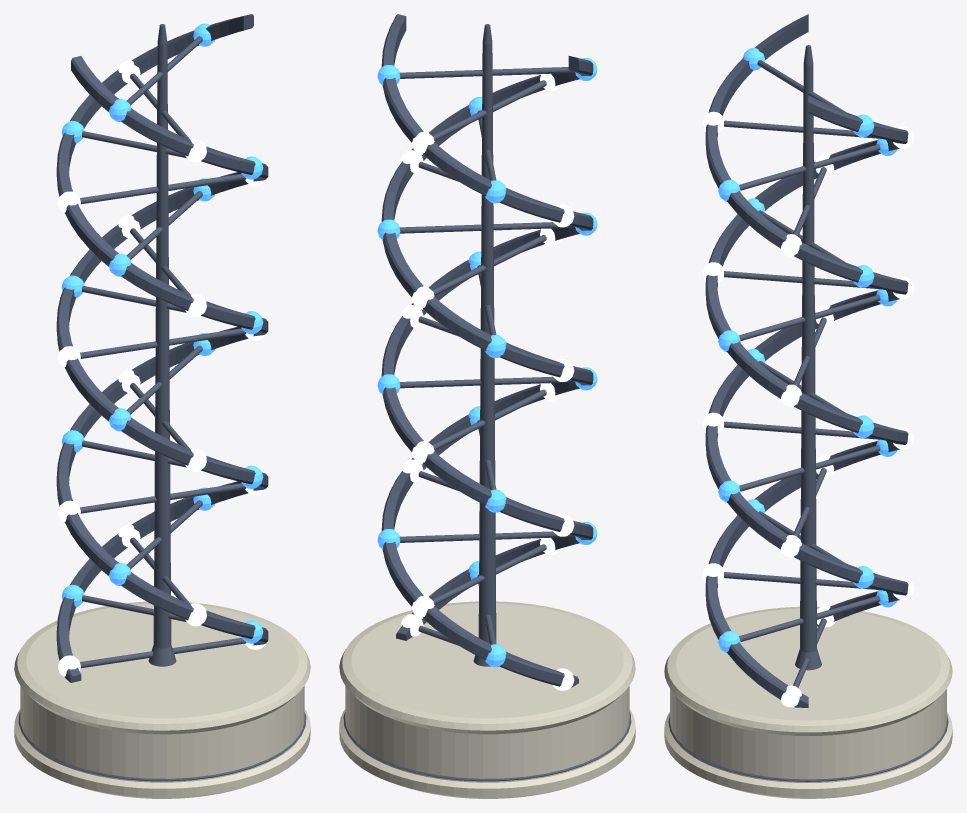
File: bw_helix_sculpture.glb
The picture shows the model from 3 angles, left to right: view 1: azimuth 30°, elevation 25°; view 2: azimuth 150°, elevation 25°; view 3: azimuth 270°, elevation 25°; orthographic projection. The views are drawn at different scales.
Visible parts, largest first — view 1: drum, base_inlay, crosslink, bw_helix_sculpture; view 2: drum, base_inlay, crosslink, bw_helix_sculpture; view 3: drum, base_inlay, crosslink, bw_helix_sculpture.
Part boxes in pixels (x1,y1,x2,y2): drum: (14, 601, 310, 798); base_inlay: (18, 14, 306, 781); crosslink: (80, 24, 246, 668); bw_helix_sculpture: (58, 23, 265, 676); drum: (339, 601, 635, 798); base_inlay: (343, 14, 631, 781); crosslink: (399, 24, 575, 666); bw_helix_sculpture: (377, 58, 597, 690); drum: (664, 606, 952, 798); base_inlay: (668, 14, 948, 781); crosslink: (724, 45, 881, 687); bw_helix_sculpture: (702, 48, 914, 707).
Bounding box in the file's own units: 3 × 8 × 3.
